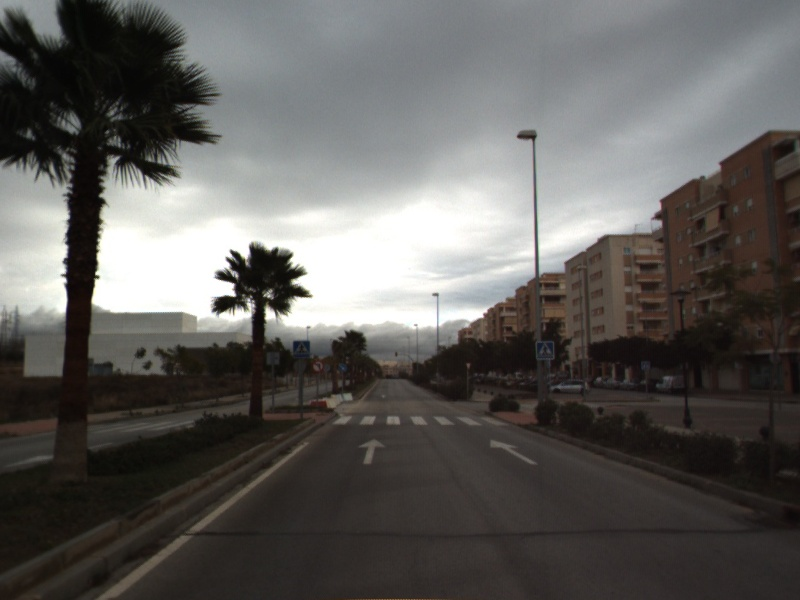STRAIGHT: (488, 437, 540, 467), (356, 436, 388, 466)
